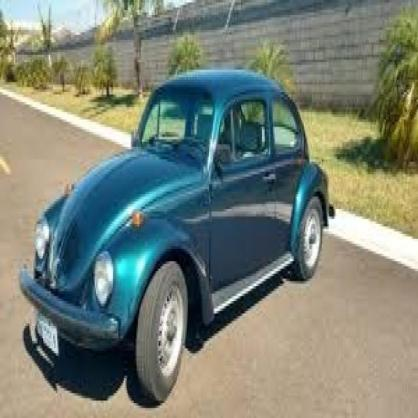car: (25, 69, 337, 407)
